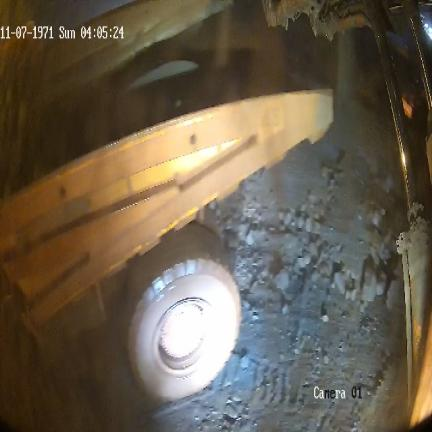pile: (203, 84, 406, 320)
